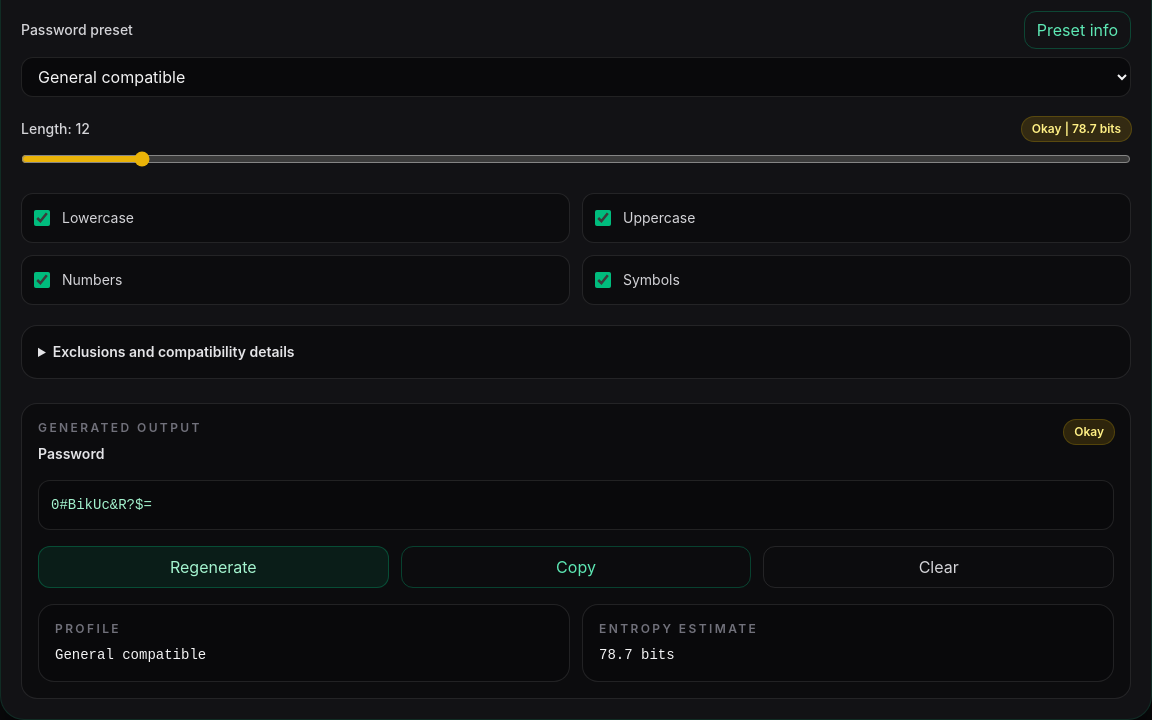
Test case: secret clipboard integration › handles failure and retry for recovery=false without exposing values in assertions
The width and height of the screenshot is (1152, 720).
(page scrolled)
Click the button "Copy": (576, 567) [401,546,751,588]
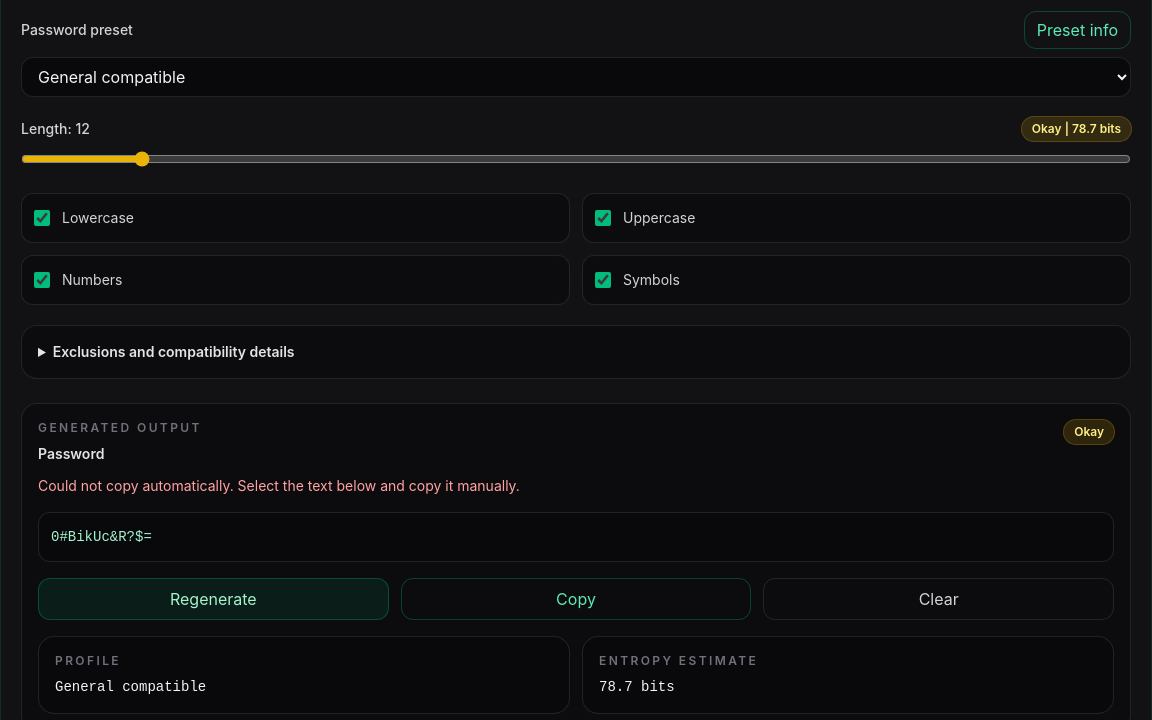
Check: the button "Copied" is not shown
Check: the message reads "Could not copy automatically. Select the text below and copy it manually.", box [38,477,520,494]
Click the button "Copy": (576, 599) [401,578,751,620]
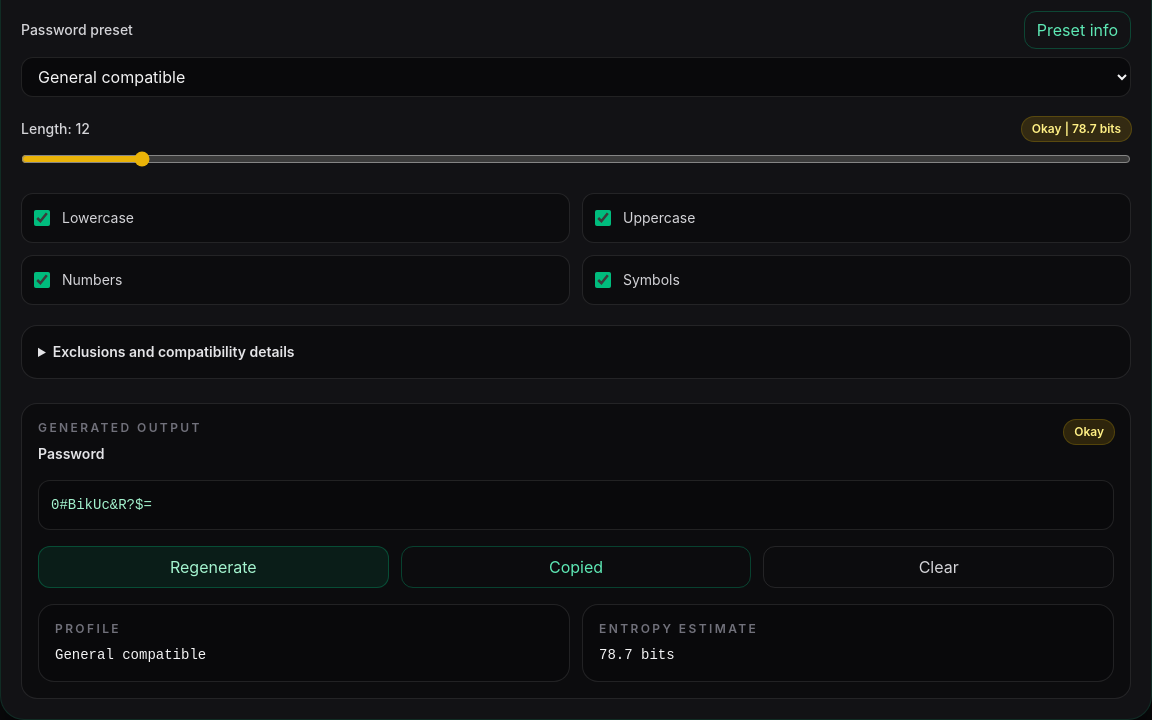
Check: the button "Copied" is shown, box [401,546,751,588]
Check: the text "Could not copy automatically. Select the text below and copy it manually." is gone
Click the button "Regenerate": (213, 567) [38,546,389,588]
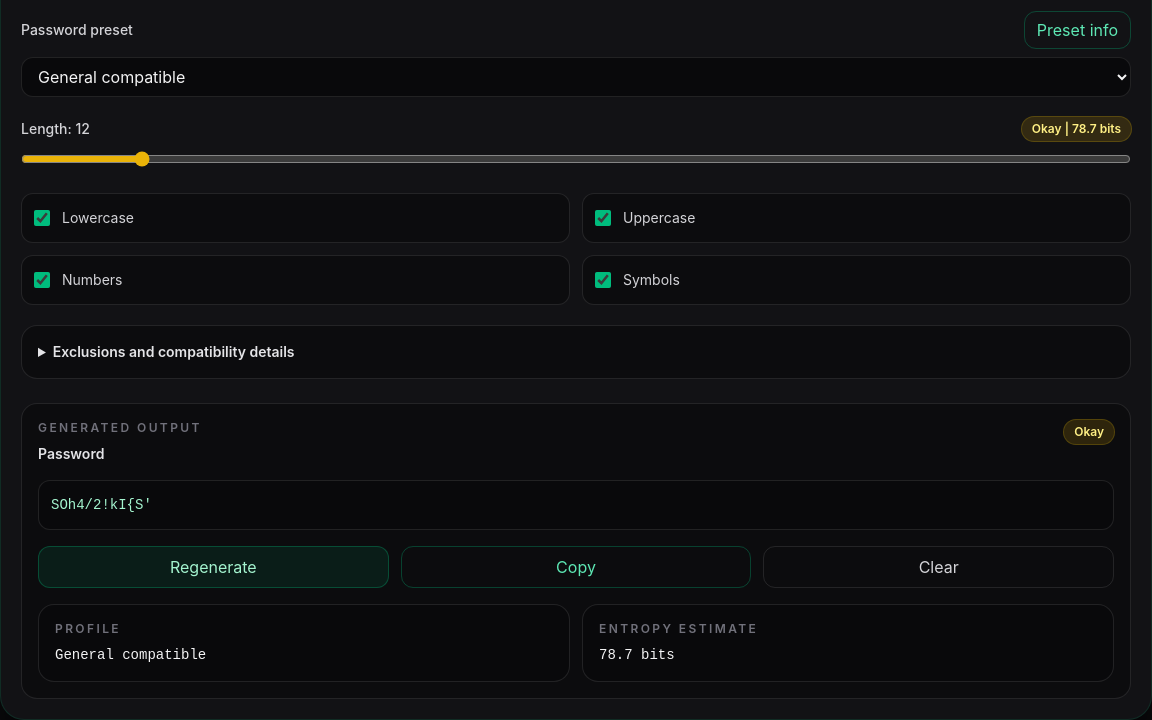
Check: the button "Copy" is shown, box [401,546,751,588]
Click the button "Clear": (939, 567) [763,546,1114,588]
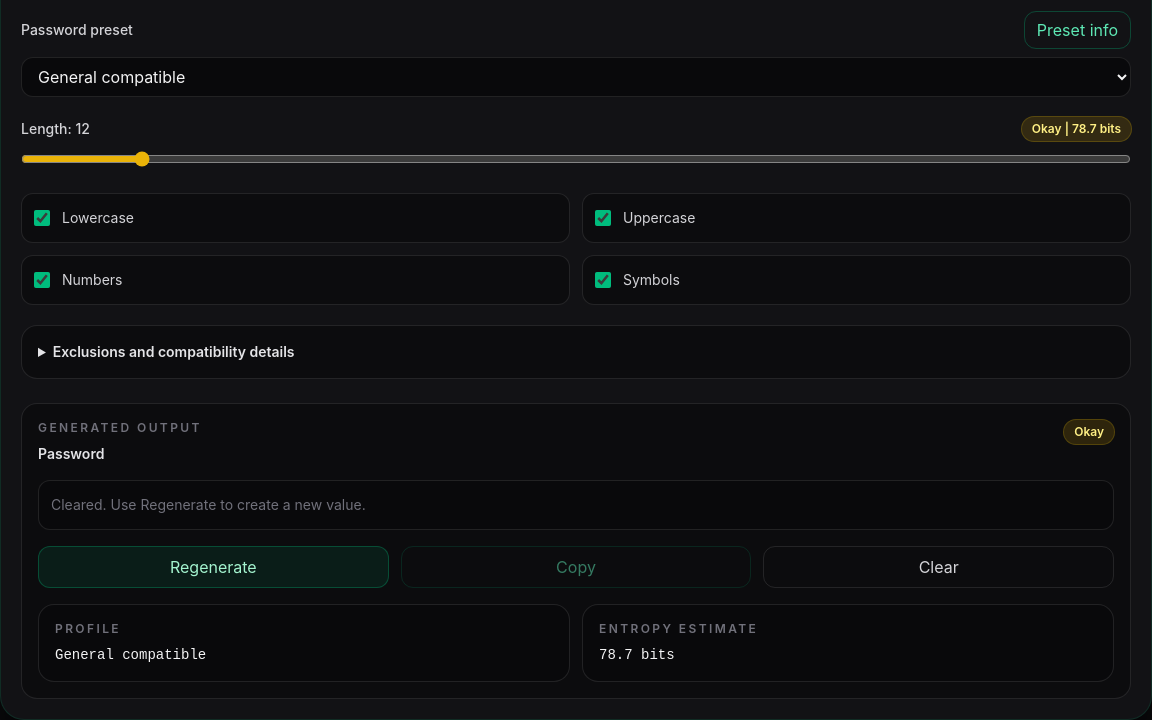
Check: the button "Copy" is disabled, box [401,546,751,588]
